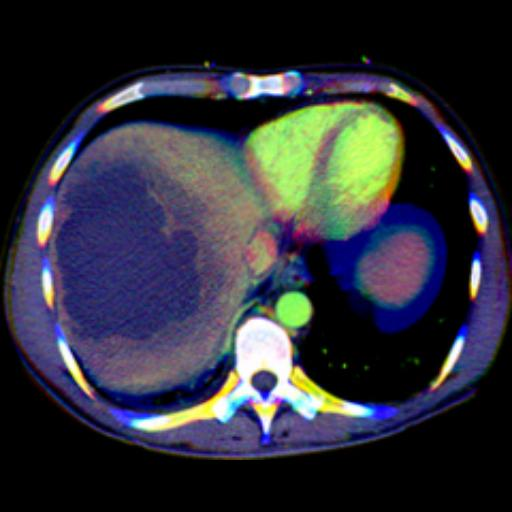Abscess: (54, 163, 200, 340)
